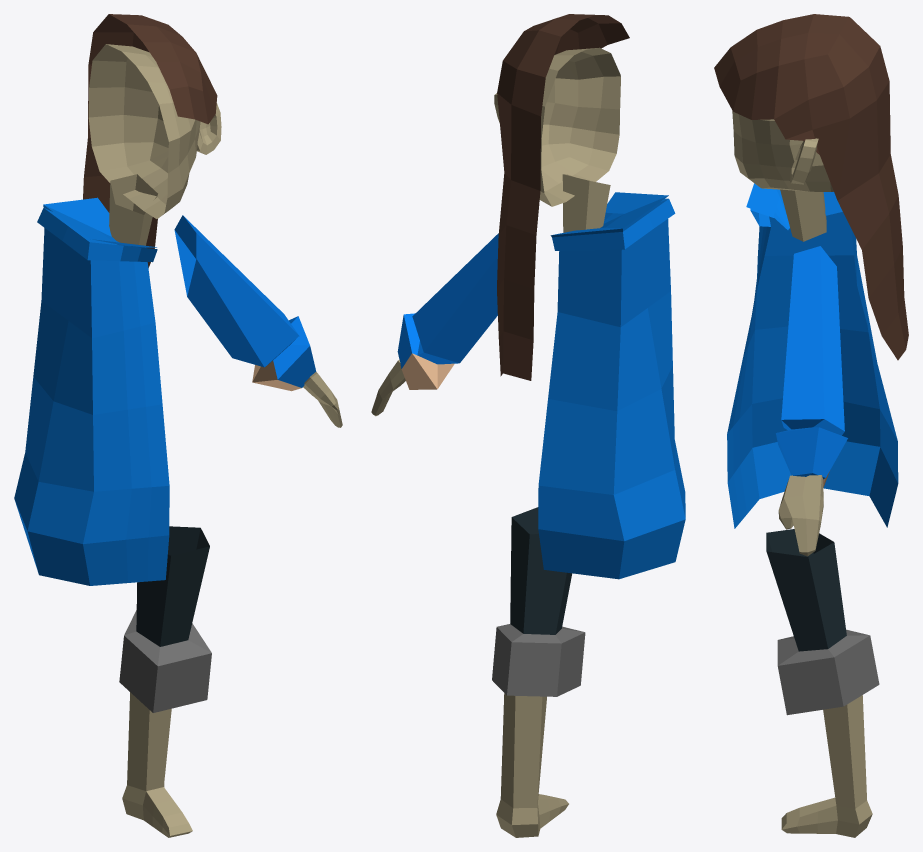
The model's file is Girl 3d assets.glb.
3 renders of one model, left to right at view 1: azimuth 30°, elevation 25°; view 2: azimuth 150°, elevation 25°; view 3: azimuth 270°, elevation 25°, orthographic.
Parts seen in each view (by area): view 1: body, leg, head, hand, hair, NECK, Cube; view 2: body, leg, hair, head, hand, NECK; view 3: hair, body, leg, hand, head, NECK, Cube.
Part boxes in pixels (left/top/right/bottom): body: left=14, top=197, right=169, bottom=585; leg: left=119, top=526, right=211, bottom=837; head: left=88, top=44, right=200, bottom=218; hand: left=174, top=215, right=342, bottom=427; hair: left=83, top=14, right=217, bottom=267; NECK: left=109, top=174, right=157, bottom=245; Cube: left=197, top=103, right=221, bottom=154; body: left=538, top=192, right=685, bottom=579; leg: left=492, top=507, right=585, bottom=837; hair: left=497, top=14, right=629, bottom=380; head: left=539, top=47, right=620, bottom=206; hand: left=371, top=233, right=498, bottom=416; NECK: left=562, top=174, right=610, bottom=232; hair: left=714, top=14, right=908, bottom=360; body: left=727, top=183, right=898, bottom=528; leg: left=766, top=529, right=879, bottom=837; hand: left=776, top=246, right=847, bottom=556; head: left=732, top=111, right=833, bottom=191; NECK: left=780, top=189, right=826, bottom=241; Cube: left=790, top=138, right=818, bottom=184.
Size of the model in its own units: 1.76 by 4.36 by 0.9673.
